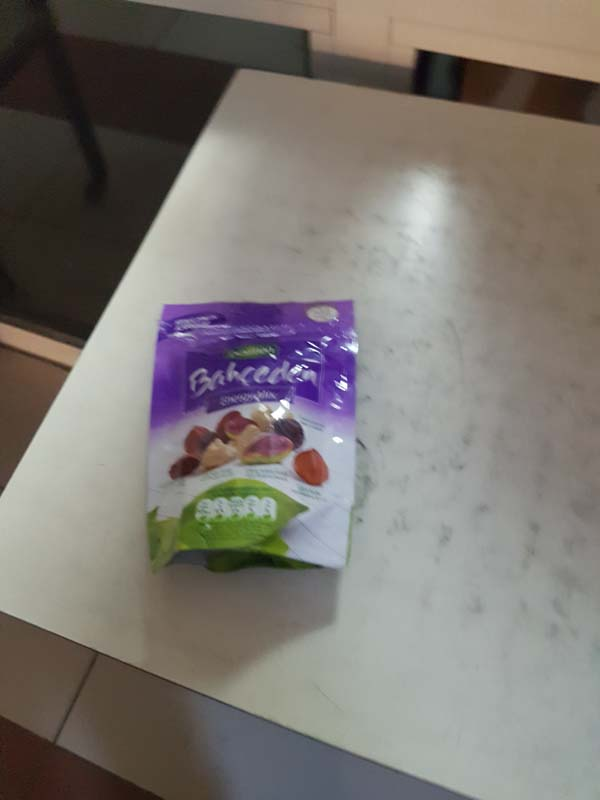bahcedenenergymix: (146, 286, 374, 600)
